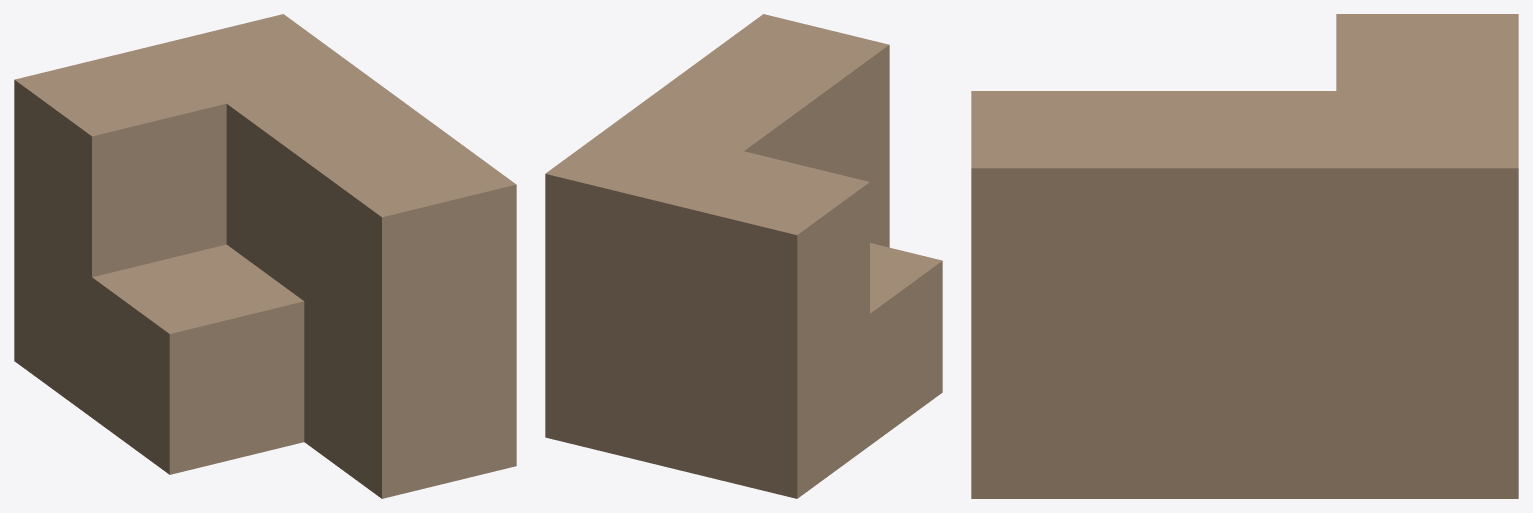
File: BS_Stone_3.fbx
3 renders of one model, left to right at view 1: azimuth 30°, elevation 25°; view 2: azimuth 150°, elevation 25°; view 3: azimuth 270°, elevation 25°, orthographic. The views are drawn at different scales.
Visible parts, largest first — view 1: BS_Stone_3; view 2: BS_Stone_3; view 3: BS_Stone_3.
Boxes of the visible parts, x1,y1,x2,y2 form: BS_Stone_3: [14, 14, 516, 498]; BS_Stone_3: [545, 14, 942, 498]; BS_Stone_3: [971, 14, 1518, 498].
Size of the model in its own units: 5 by 7.5 by 5.
